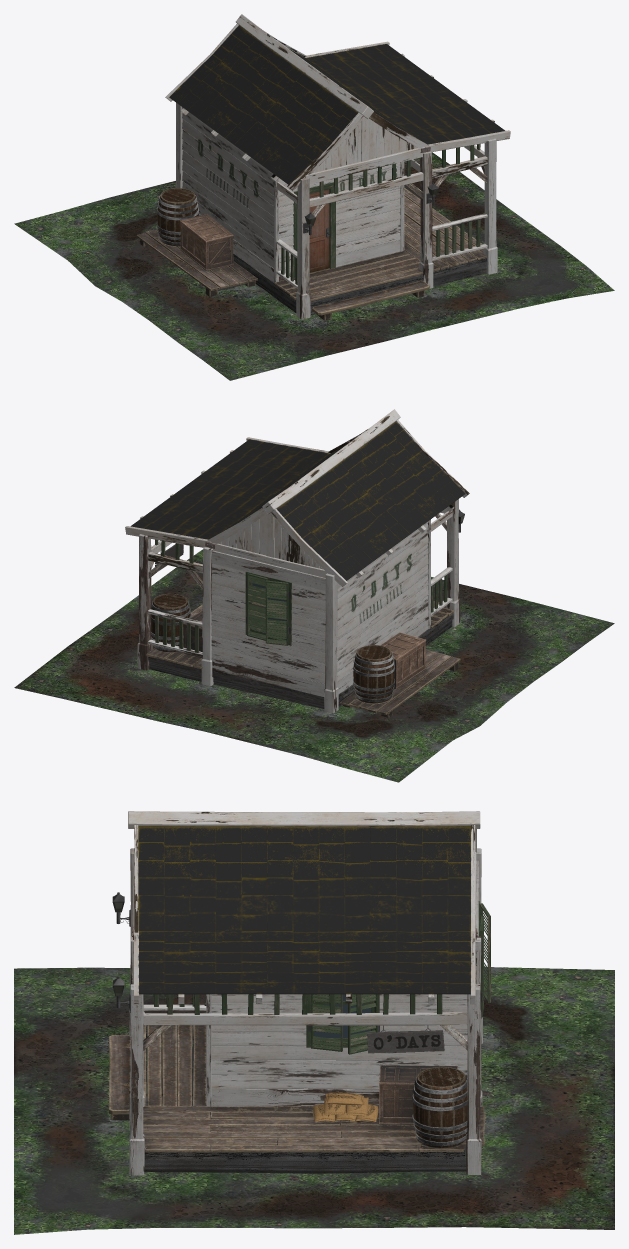
3 views of the same model, one above another, from view 1: azimuth 30°, elevation 25°; view 2: azimuth 150°, elevation 25°; view 3: azimuth 270°, elevation 25° (orthographic). The views are drawn at different scales.
Visible parts, largest first — view 1: Ground_M, Tiles_M, Walls_M1, Roof_Support_M, Floor_Boards_M, Pillars_M, Floor_Support_M2, Wooden_Crate_Low1, Floor_Boards_M2, Decoration_M11, Barrel_Low1, Bot_Wall_M (+5 smaller); view 2: Ground_M, Tiles_M, Walls_M1, Roof_Support_M, Pillars_M, Floor_Support_M2, Window_Blinds_M, Barrel_Low1, Bot_Wall_M, Floor_Boards_M2, Decoration_M11, Top_Wall_M (+4 smaller); view 3: Ground_M, Tiles_M, Floor_Boards_M, Walls_M1, Roof_Support_M, Floor_Support_M2, Pillars_M, Barrel_Low, Bot_Wall_M, Wooden_Crate_Low, Window_Blinds_M1, Step_M (+6 smaller).
Boxes of the visible parts, x1=… form: Ground_M: x1=14, y1=152, x2=614, y2=380; Tiles_M: x1=169, y1=25, x2=505, y2=184; Walls_M1: x1=182, y1=113, x2=400, y2=269; Roof_Support_M: x1=165, y1=14, x2=510, y2=207; Floor_Boards_M: x1=274, y1=188, x2=486, y2=301; Pillars_M: x1=176, y1=103, x2=497, y2=319; Floor_Support_M2: x1=217, y1=252, x2=486, y2=315; Wooden_Crate_Low1: x1=180, y1=214, x2=233, y2=270; Floor_Boards_M2: x1=136, y1=229, x2=257, y2=290; Decoration_M11: x1=276, y1=213, x2=487, y2=288; Barrel_Low1: x1=157, y1=188, x2=198, y2=246; Bot_Wall_M: x1=198, y1=214, x2=400, y2=281; Ground_M: x1=14, y1=549, x2=614, y2=782; Tiles_M: x1=131, y1=421, x2=465, y2=580; Walls_M1: x1=211, y1=523, x2=428, y2=683; Roof_Support_M: x1=125, y1=409, x2=469, y2=586; Pillars_M: x1=137, y1=499, x2=460, y2=713; Floor_Support_M2: x1=148, y1=613, x2=453, y2=708; Window_Blinds_M: x1=246, y1=573, x2=290, y2=645; Barrel_Low1: x1=353, y1=645, x2=395, y2=703; Bot_Wall_M: x1=211, y1=616, x2=428, y2=696; Floor_Boards_M2: x1=339, y1=649, x2=460, y2=714; Decoration_M11: x1=147, y1=567, x2=452, y2=656; Top_Wall_M: x1=211, y1=521, x2=428, y2=590; Ground_M: x1=14, y1=967, x2=614, y2=1234; Tiles_M: x1=138, y1=826, x2=470, y2=994; Floor_Boards_M: x1=143, y1=1024, x2=485, y2=1152; Walls_M1: x1=211, y1=994, x2=467, y2=1089; Roof_Support_M: x1=128, y1=811, x2=480, y2=1025; Floor_Support_M2: x1=144, y1=1025, x2=466, y2=1173; Pillars_M: x1=129, y1=848, x2=482, y2=1175; Barrel_Low: x1=412, y1=1066, x2=467, y2=1147; Bot_Wall_M: x1=211, y1=1088, x2=379, y2=1107; Wooden_Crate_Low: x1=379, y1=1065, x2=457, y2=1124; Window_Blinds_M1: x1=308, y1=994, x2=379, y2=1054; Step_M: x1=109, y1=1035, x2=130, y2=1120.
Size of the model in its own units: 9.22 by 4.69 by 8.97.
Materials: 7 (7 with a texture image).
